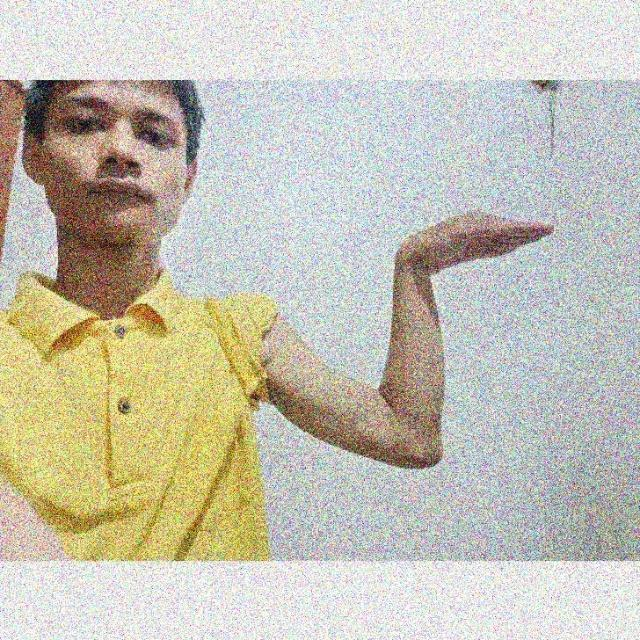Z: (360, 142, 566, 484)
